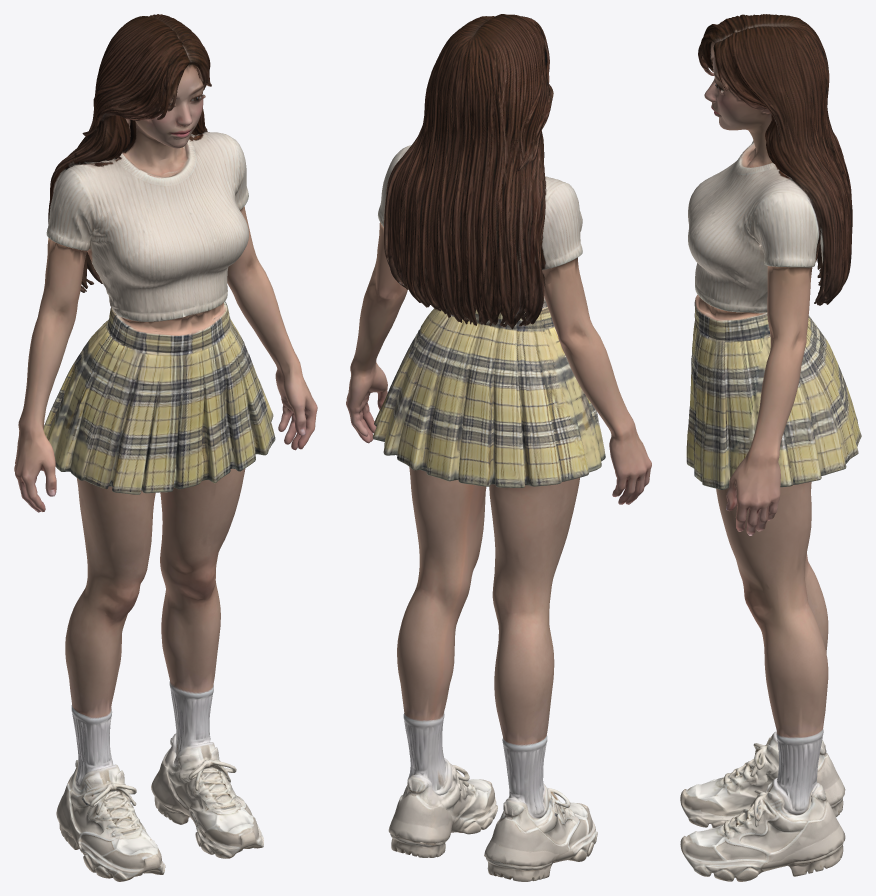
Rendered from female-mobile.glb.
3 renders of one model, left to right at view 1: azimuth 30°, elevation 25°; view 2: azimuth 150°, elevation 25°; view 3: azimuth 270°, elevation 25°, orthographic.
Visible parts, largest first — view 1: Dada_female_complete_outfit; view 2: Dada_female_complete_outfit; view 3: Dada_female_complete_outfit.
Part boxes in pixels (<box>): Dada_female_complete_outfit: <box>14,14,317,881</box>; Dada_female_complete_outfit: <box>346,14,651,881</box>; Dada_female_complete_outfit: <box>680,14,861,881</box>.
Bounding box in the file's own units: 0.3692 × 0.9793 × 0.1947.
1 material, 1 textured.
